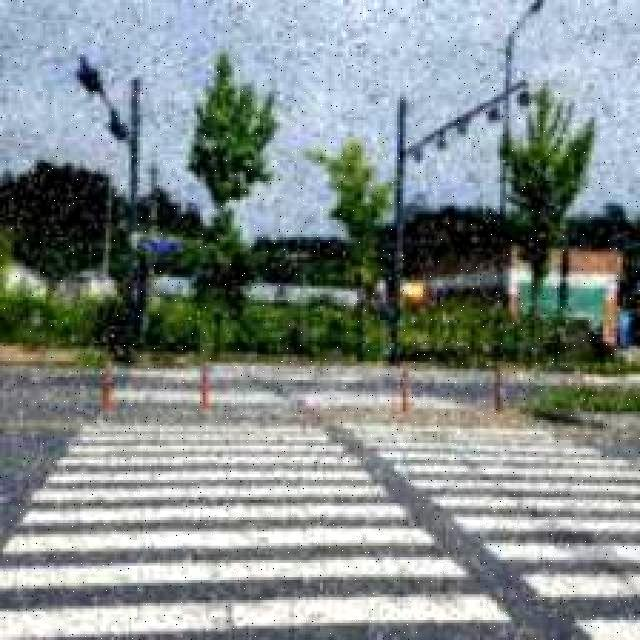crosswalk: (2, 408, 639, 639)
